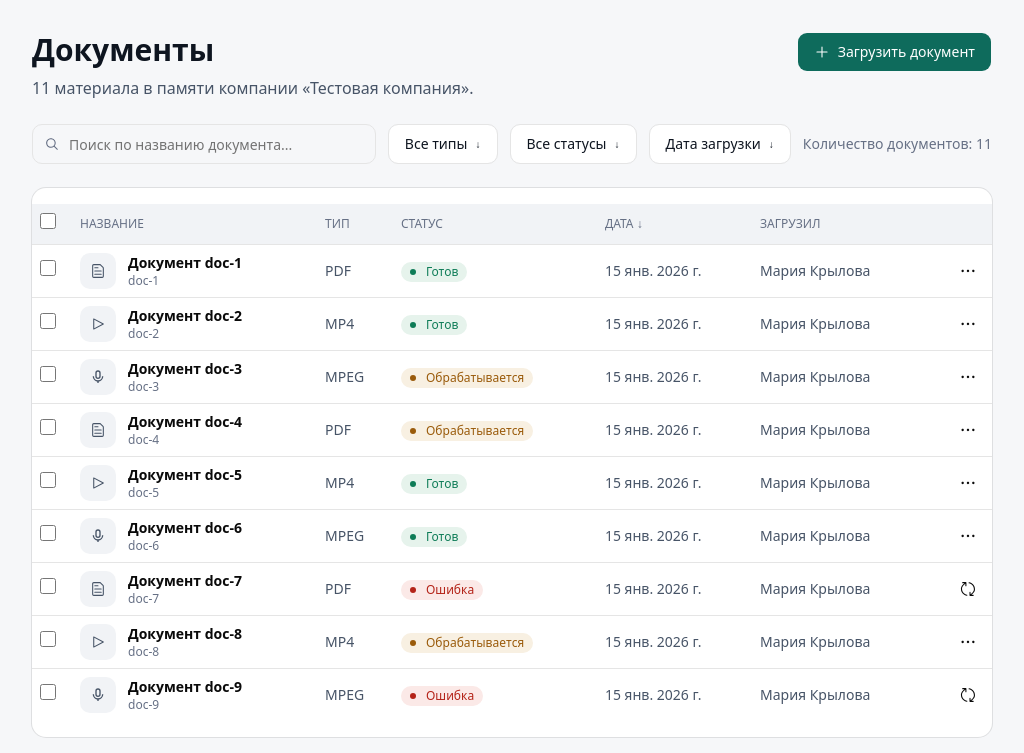
DocumentsPage — интеграционные тесты › фильтрует документы по статусу
Click the button "Все статусы ↓": (573, 144) [510, 124, 636, 164]
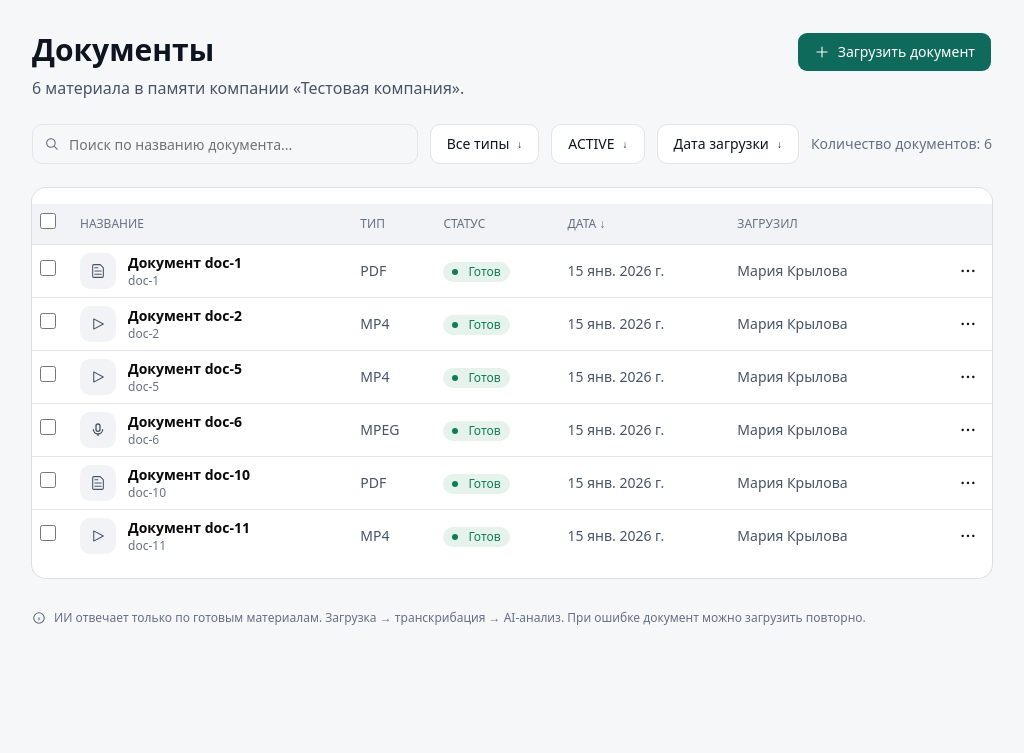
Now the link "Документ doc-3" is gone
Now the link "Документ doc-4" is gone
Now the text "6 материала в памяти компании «Тестовая компания»." is shown, box [32, 76, 464, 100]
